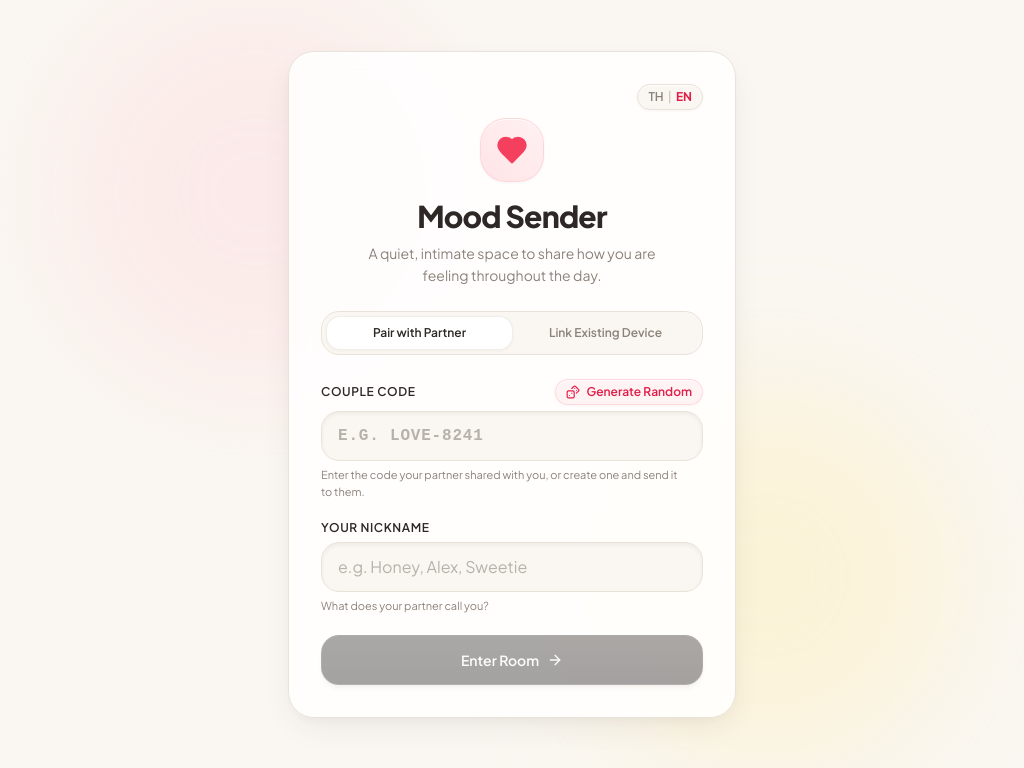
Test: Device Link UI Components › PairModal Tabs and OTP Linking › handles formatted spaced OTP input and error responses
The width and height of the screenshot is (1024, 768).
Click the tab "Link Existing Device" at (606, 333), box [513,316,698,350]
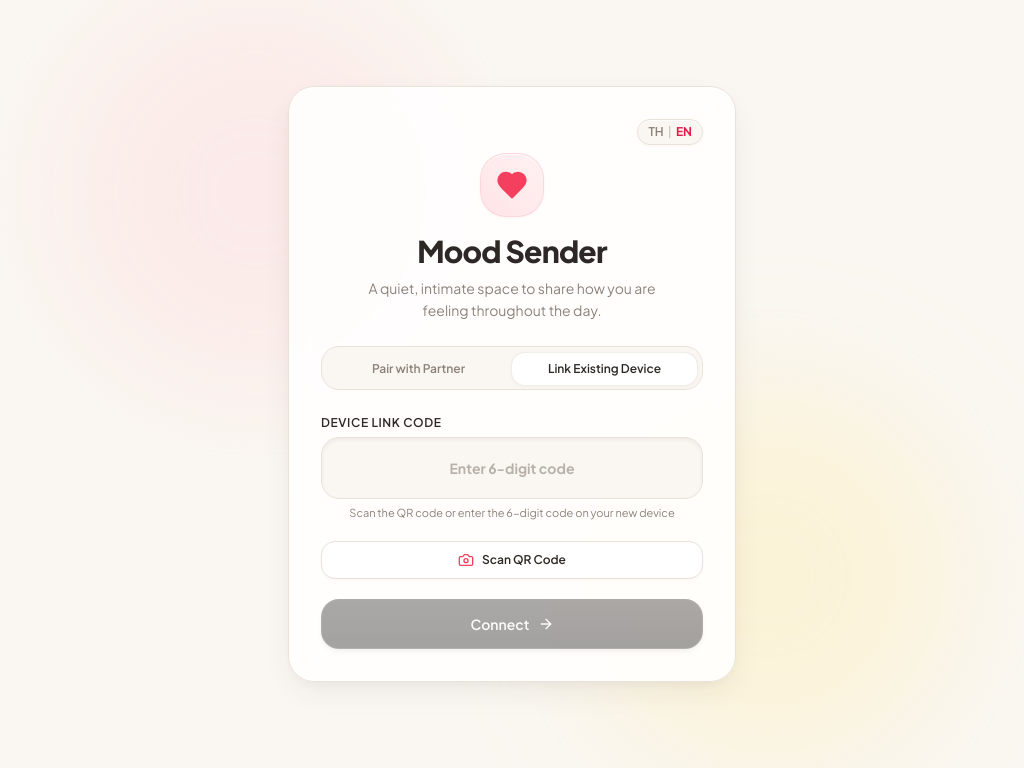
Type "481 923" into the field with placeholder "Enter 6-digit code" at (512, 468), box [321,436,703,498]
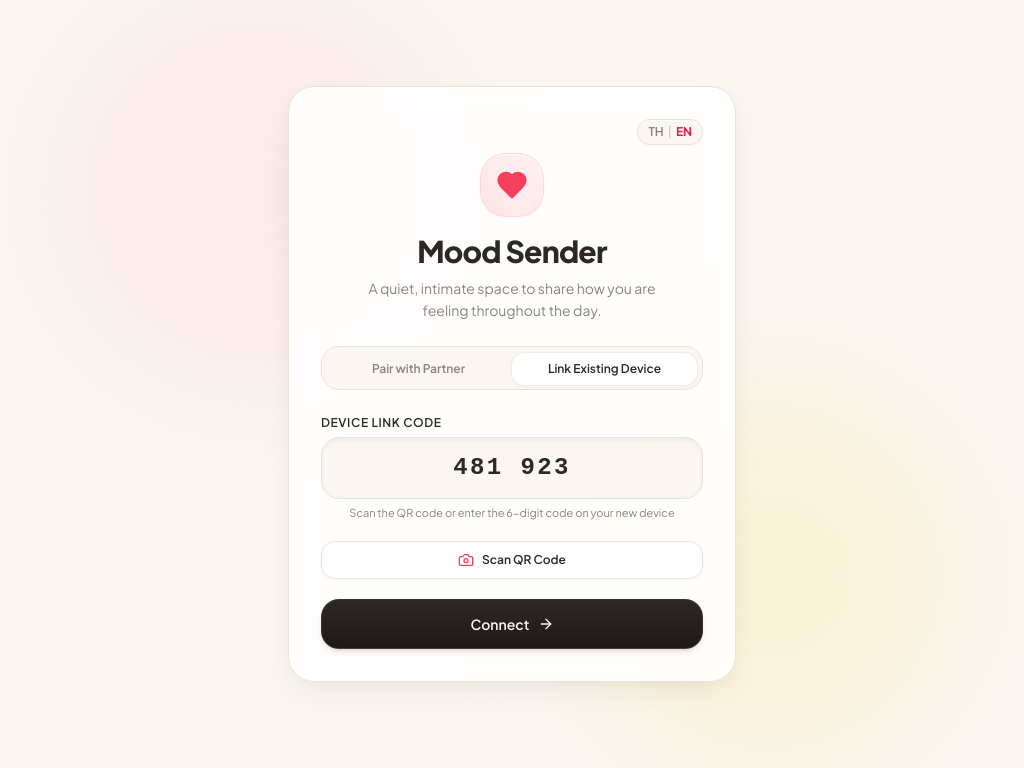
Click the button "Connect" at (512, 624), box [321,599,703,649]
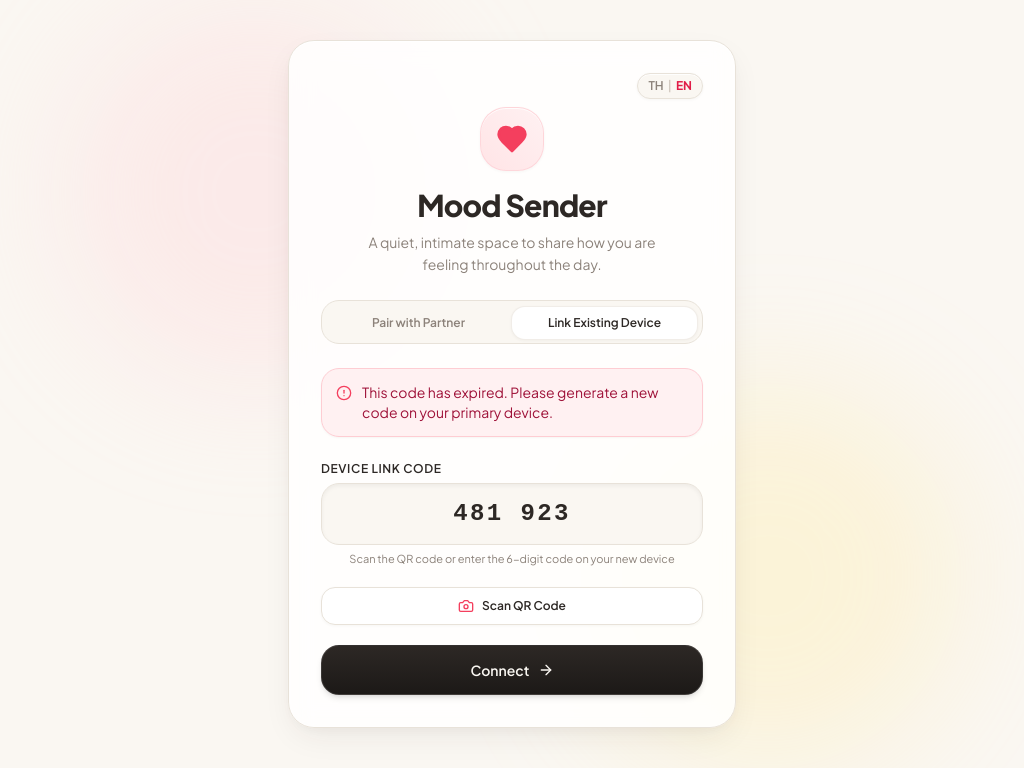
Expected: the text "This code has expired" is shown, [362,383,658,421]
